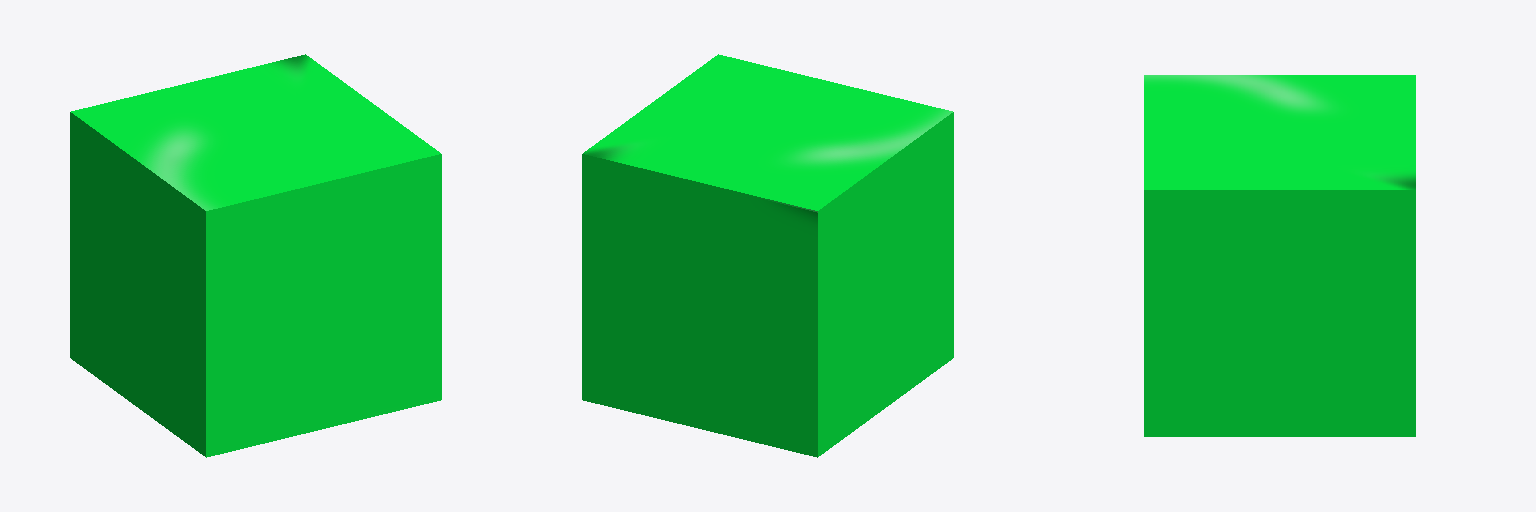
The picture shows the model from 3 angles: view 1: azimuth 30°, elevation 25°; view 2: azimuth 150°, elevation 25°; view 3: azimuth 270°, elevation 25°; orthographic projection.
Visible parts, largest first — view 1: Cube; view 2: Cube; view 3: Cube.
Part boxes in pixels (x1,y1,x2,y2): Cube: (70, 54, 441, 457); Cube: (582, 54, 953, 457); Cube: (1144, 75, 1415, 436).
Size of the model in its own units: 2 by 2 by 2.
Materials: 1 (1 with a texture image).